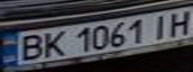0: (90, 22, 112, 51)
1: (124, 17, 151, 44), (69, 25, 93, 53)
6: (109, 20, 130, 48)
B: (12, 32, 48, 62)
H: (163, 8, 193, 36)
I: (145, 11, 175, 39)
K: (36, 28, 69, 60)
